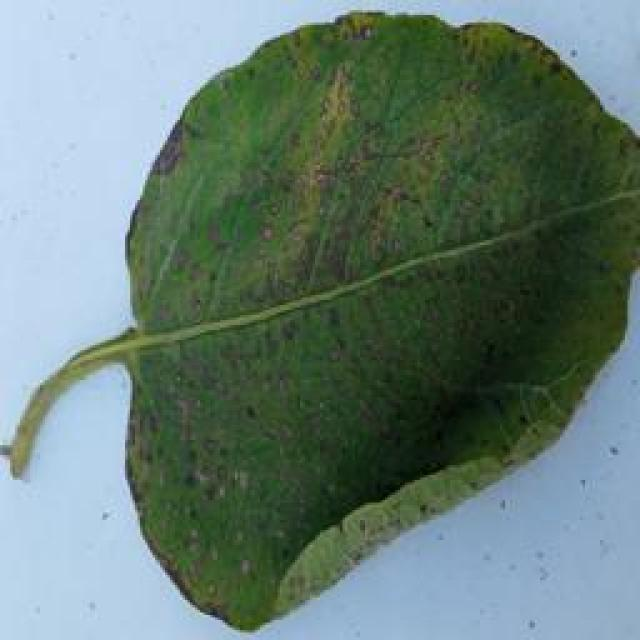Potato_Early_Blight: (119, 0, 640, 634)
